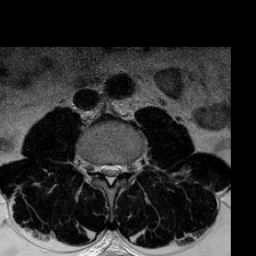CCS_normal: (107, 154, 113, 194)
LFS_normal: (121, 153, 129, 178)
LLS_normal: (113, 154, 121, 181)
RFS_normal: (92, 154, 100, 179)
RLS_normal: (100, 154, 107, 180)
